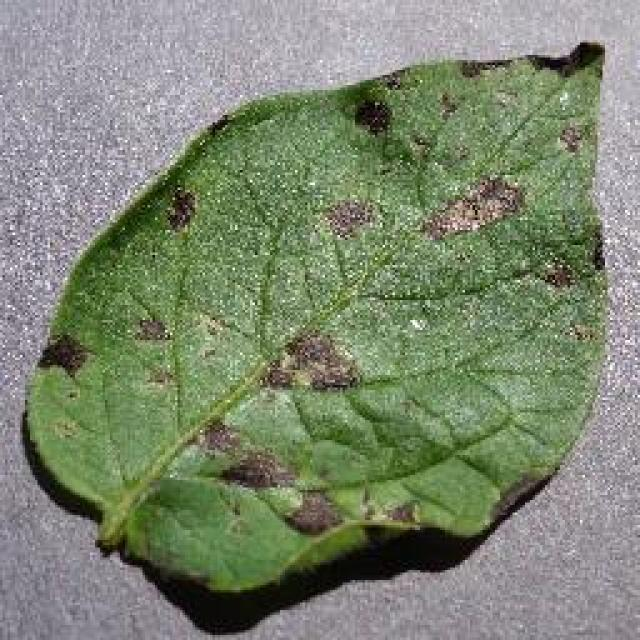Potato: (20, 37, 610, 595)
